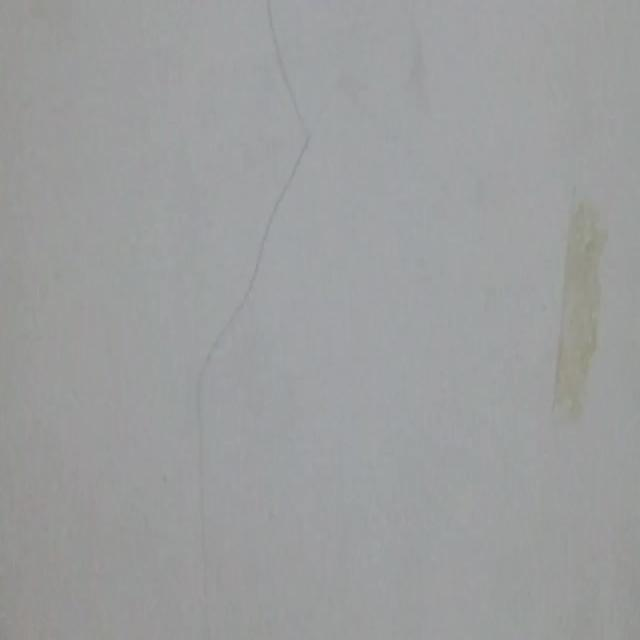Crack: (205, 0, 342, 319), (188, 328, 231, 569)
